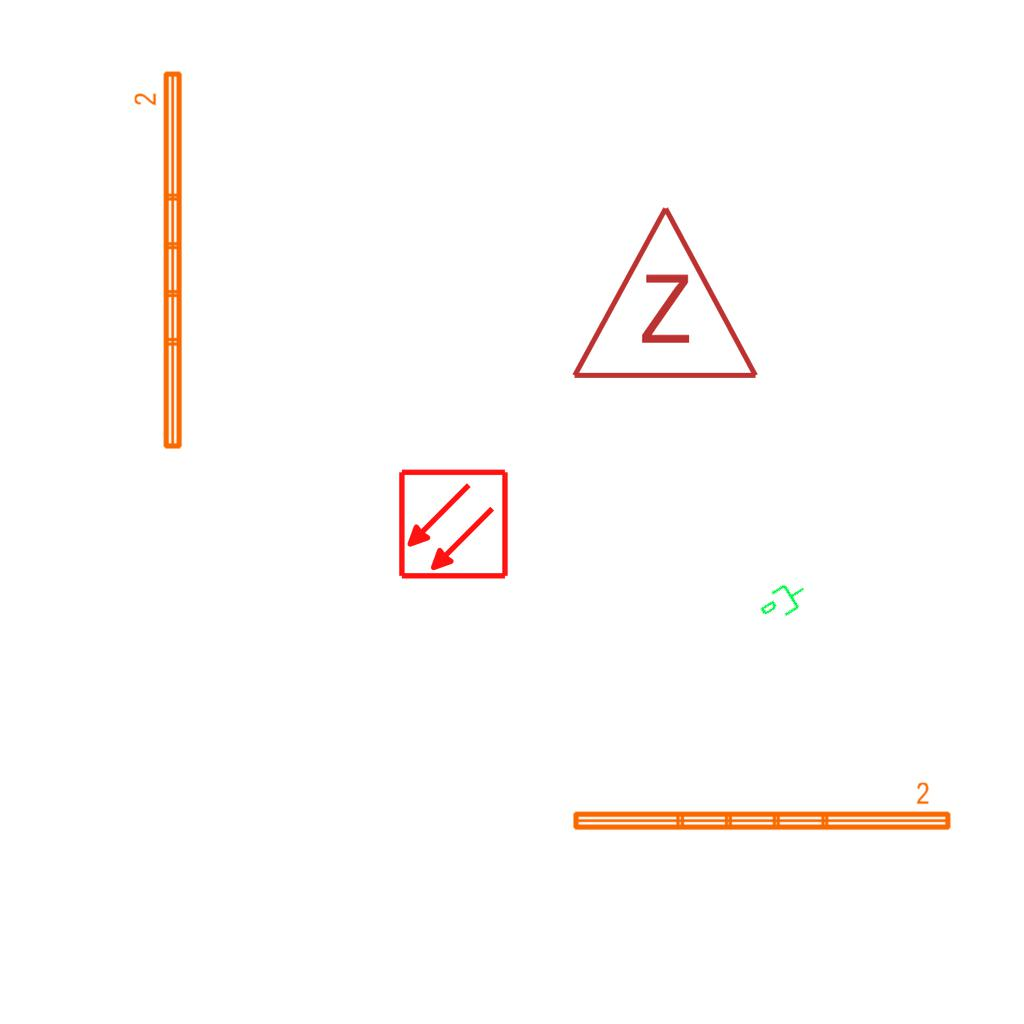Ambulanz_Pendelleuchte_LED: (568, 780, 955, 836), (132, 67, 188, 454)
Datenanschluss_einfach: (753, 574, 815, 630)
RMO_Rauchmelder_optischer: (397, 468, 510, 581)
Zimmersignalleuchte: (565, 193, 761, 393)
